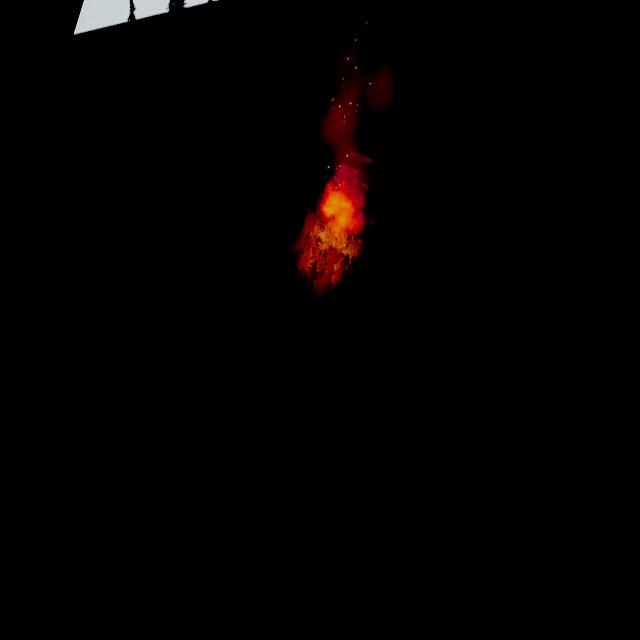fire: (308, 153, 376, 240)
smoke: (295, 0, 428, 159)
